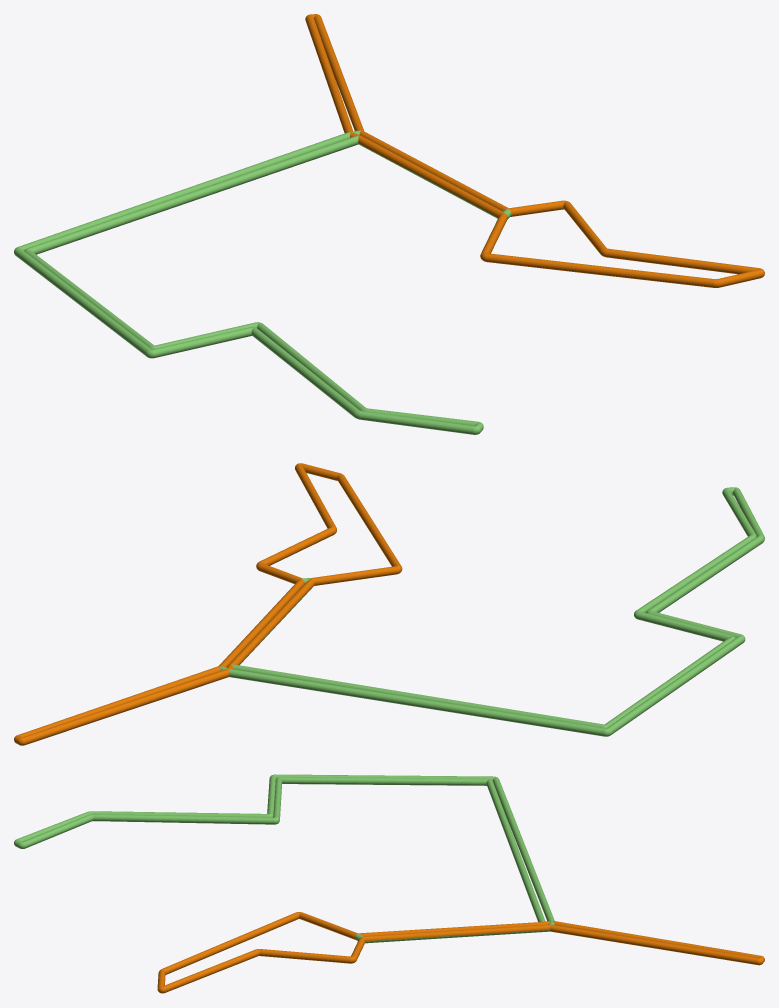
File: route.fbx
3 views of the same model, one above another, from view 1: azimuth 30°, elevation 25°; view 2: azimuth 150°, elevation 25°; view 3: azimuth 270°, elevation 25° (orthographic). The views are drawn at different scales.
Parts seen in each view (by area): view 1: Rute; view 2: Rute; view 3: Rute.
Part boxes in pixels (<box>): Rute: <box>14,14,764,434</box>; Rute: <box>14,463,764,745</box>; Rute: <box>14,774,764,993</box>.
Size of the model in its own units: 12816 by 180 by 18928.
